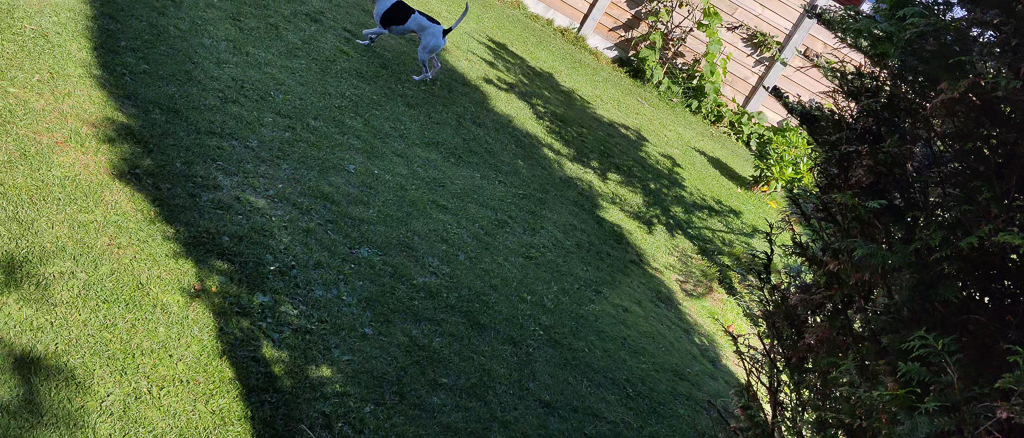Dog: (351, 0, 474, 85)
